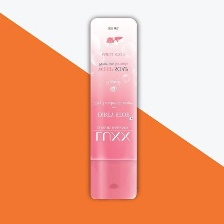cleaning_solution: (83, 13, 142, 205)
